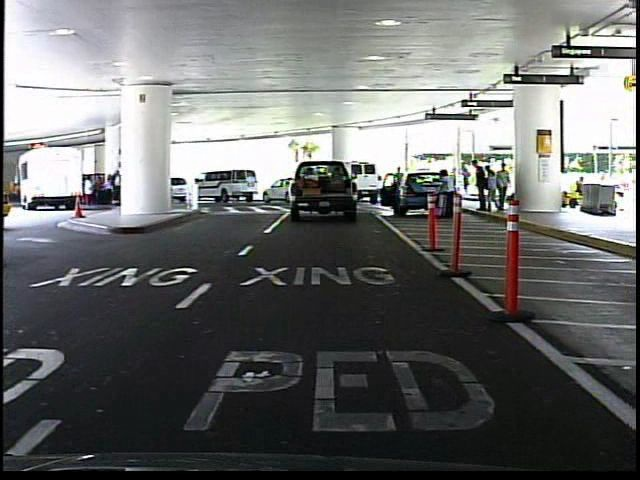person: (494, 160, 516, 217), (436, 163, 456, 214), (391, 164, 407, 204)
